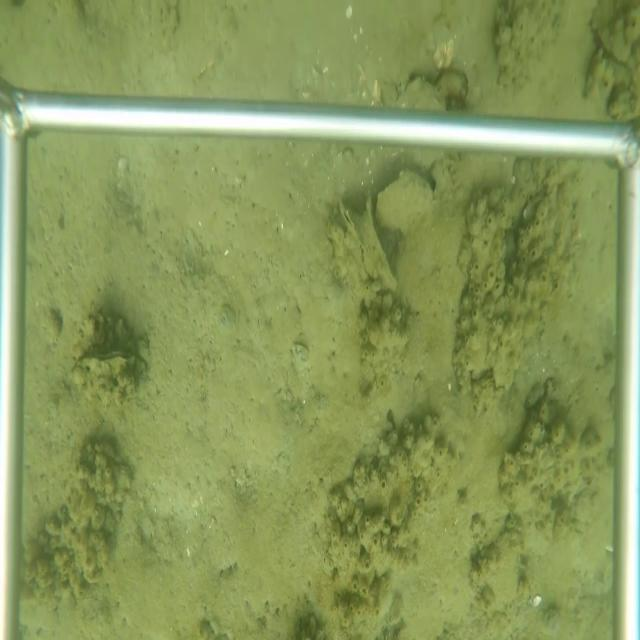Oyster-Closed: (337, 188, 381, 287), (364, 188, 399, 299), (71, 346, 140, 398)
Oyster-Indeterminate: (377, 165, 435, 242), (588, 6, 632, 69)
